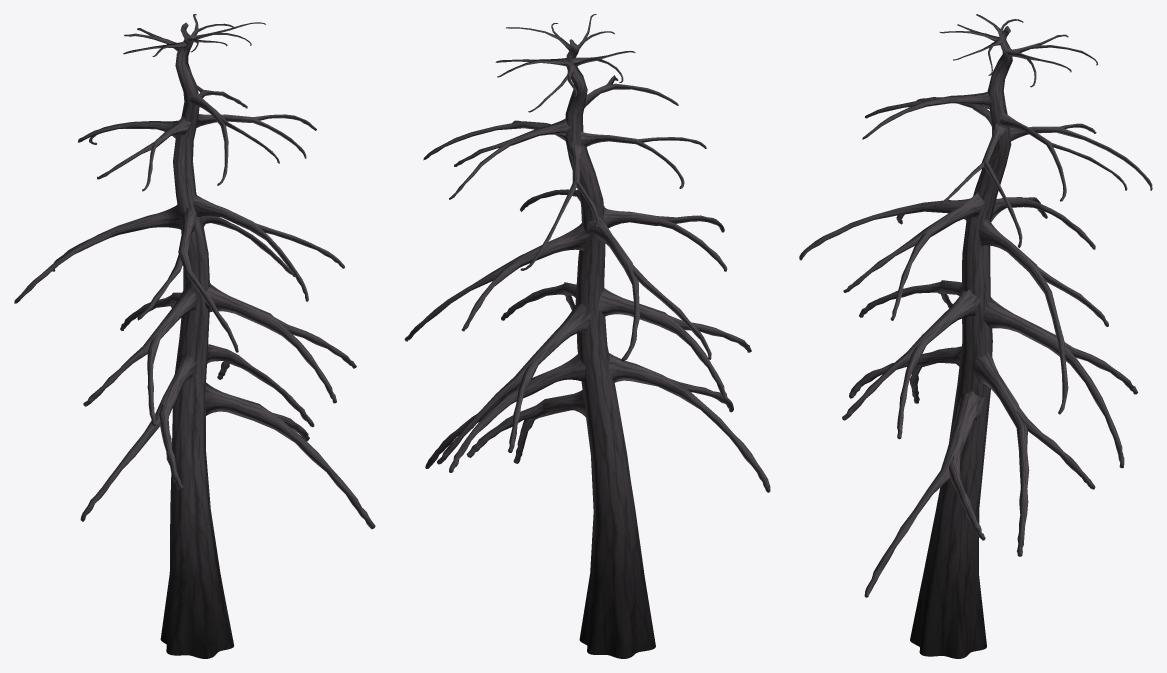
File: DeadTree_5.glb
The picture shows the model from 3 angles, left to right: view 1: azimuth 30°, elevation 25°; view 2: azimuth 150°, elevation 25°; view 3: azimuth 270°, elevation 25°; orthographic projection. The views are drawn at different scales.
Parts seen in each view (by area): view 1: DeadTree_5; view 2: DeadTree_5; view 3: DeadTree_5.
Part boxes in pixels (x1=…): DeadTree_5: x1=14, y1=14, x2=375, y2=658; DeadTree_5: x1=404, y1=14, x2=770, y2=658; DeadTree_5: x1=799, y1=14, x2=1152, y2=658.
Bounding box in the file's own units: 8.36 × 16.44 × 8.41.
1 material, 1 textured.
